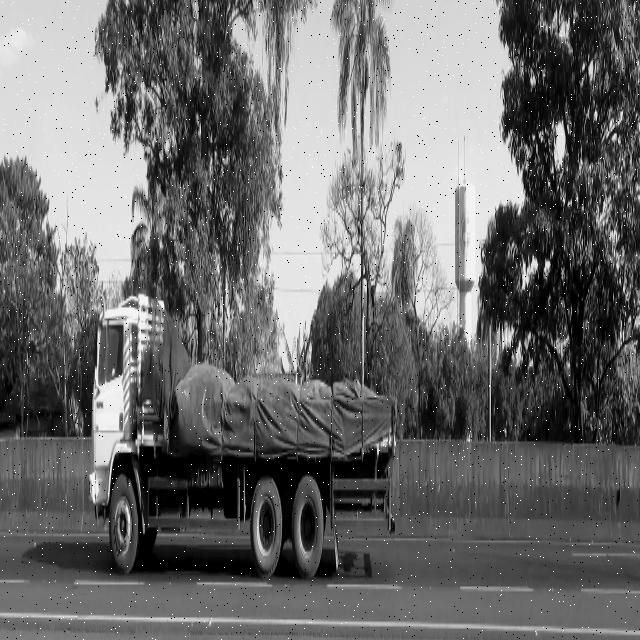-axle: (250, 465, 282, 581), (292, 473, 323, 575), (107, 476, 138, 575)
